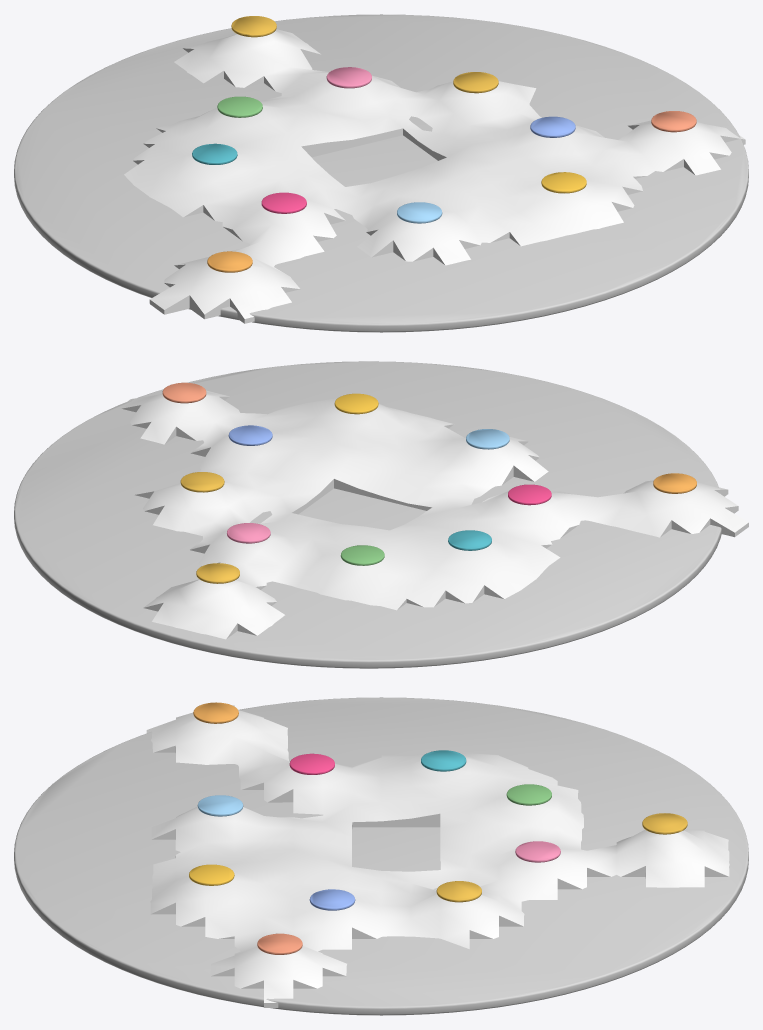
The model's file is mini.glb.
3 renders of one model, top to bottom at view 1: azimuth 30°, elevation 25°; view 2: azimuth 150°, elevation 25°; view 3: azimuth 270°, elevation 25°, orthographic. The views are drawn at different scales.
Visible parts, largest first — view 1: mini_diorama; view 2: mini_diorama; view 3: mini_diorama.
Boxes of the visible parts, x1,y1,x2,y2 form: mini_diorama: (14,14,748,332); mini_diorama: (14,361,748,668); mini_diorama: (14,697,748,1015).
Bounding box in the file's own units: 13.49 × 0.9206 × 13.49.
